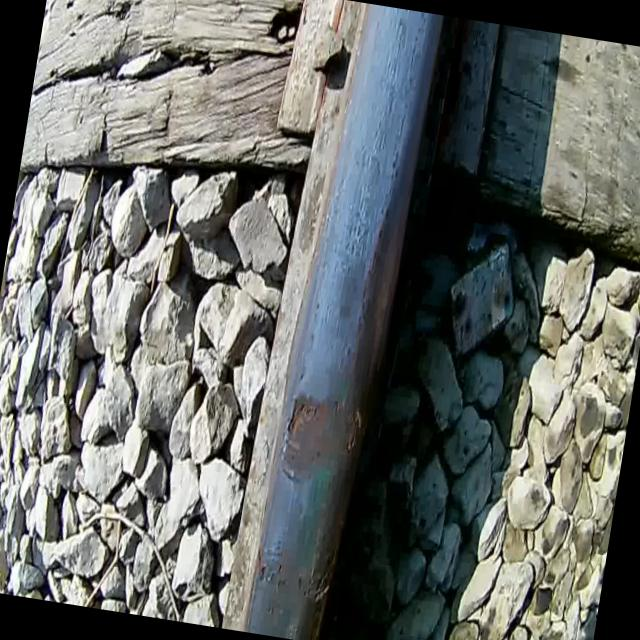Spallings: (244, 541, 293, 620), (292, 550, 338, 615), (284, 393, 322, 442), (340, 402, 370, 462)
Squats: (269, 380, 372, 500)
